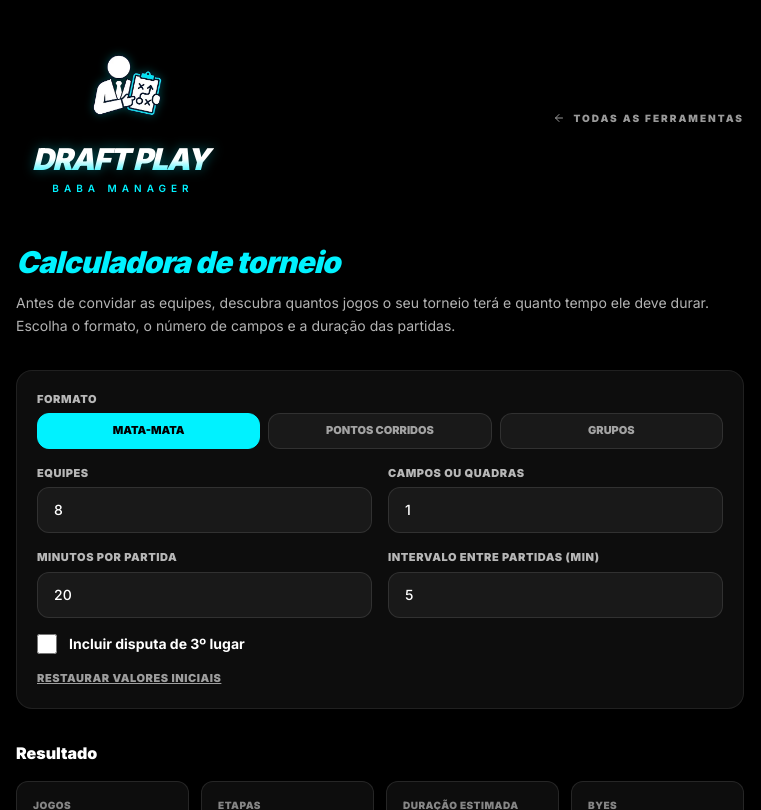
Scenario: Calculadora de torneio › mostra erro com 1 equipe e some o resultado
Replace the text in the number field labelled "Equipes" with "1". click: (204, 510)
box: [37, 487, 372, 533]
(page scrolled)
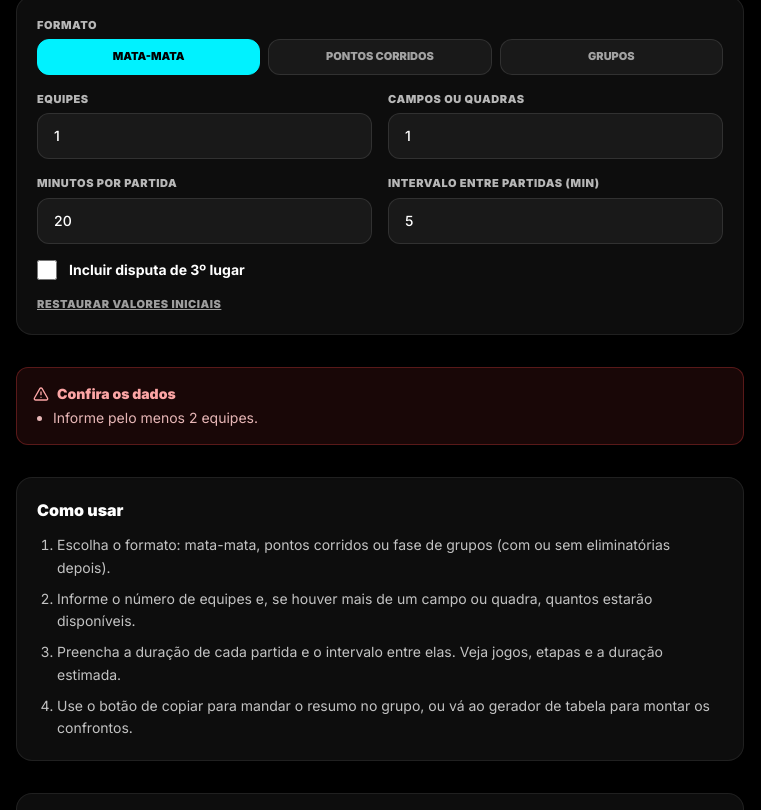
Now the message shows "pelo menos 2 equipes", box [53, 409, 258, 426]
Now the heading "Resultado" is gone
